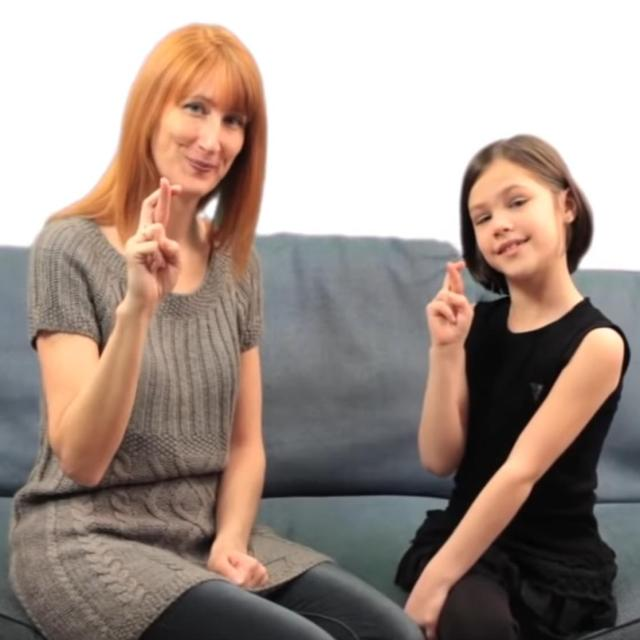R: (125, 174, 183, 302), (425, 258, 473, 348)
